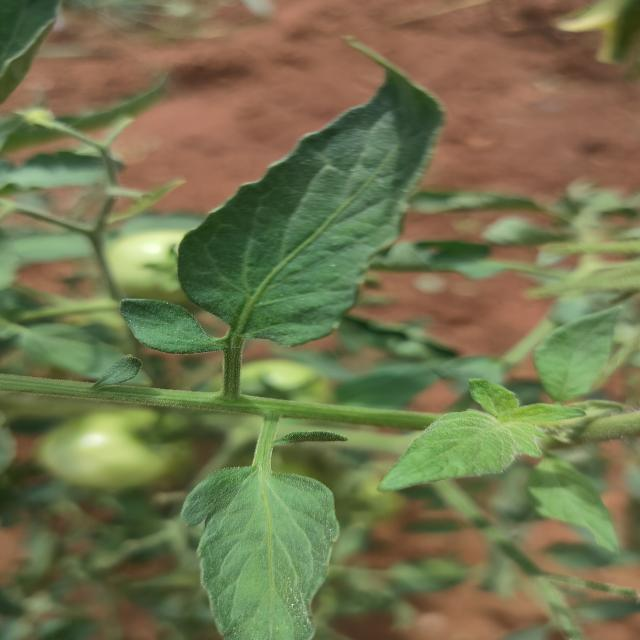tomato_healthy: (177, 43, 443, 370), (181, 460, 337, 640), (379, 410, 543, 491), (534, 306, 622, 402)
